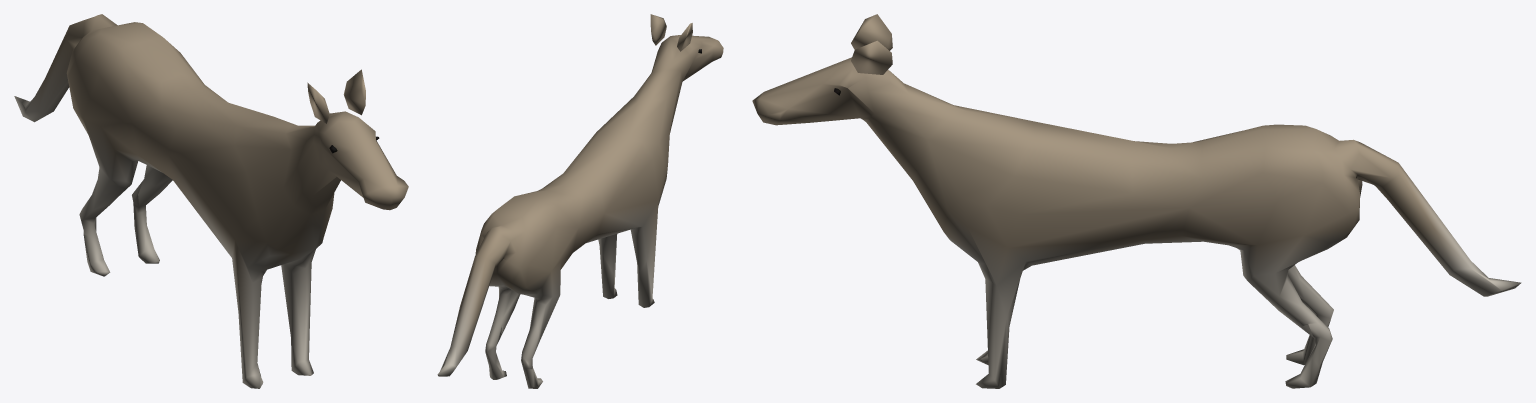
Rendered from kojote.glb.
The picture shows the model from 3 angles, left to right: view 1: azimuth 30°, elevation 25°; view 2: azimuth 150°, elevation 25°; view 3: azimuth 270°, elevation 25°; orthographic projection. The views are drawn at different scales.
Visible parts, largest first — view 1: lack; view 2: lack; view 3: lack.
Boxes of the visible parts, <box> form: lack: <box>14,14,408,388</box>; lack: <box>437,14,723,388</box>; lack: <box>752,14,1521,388</box>.
Bounding box in the file's own units: 0.2125 × 0.7985 × 1.6.
